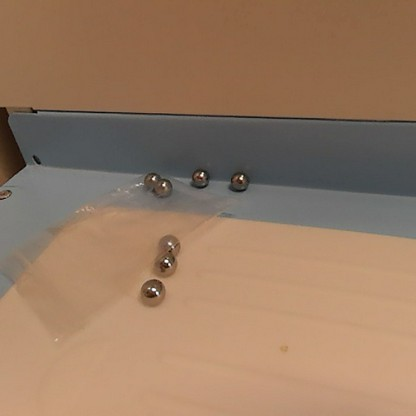ironball: (136, 277, 169, 306), (151, 250, 179, 282), (156, 231, 185, 256), (186, 161, 213, 187), (226, 165, 249, 190), (149, 177, 174, 200), (142, 167, 159, 184)
